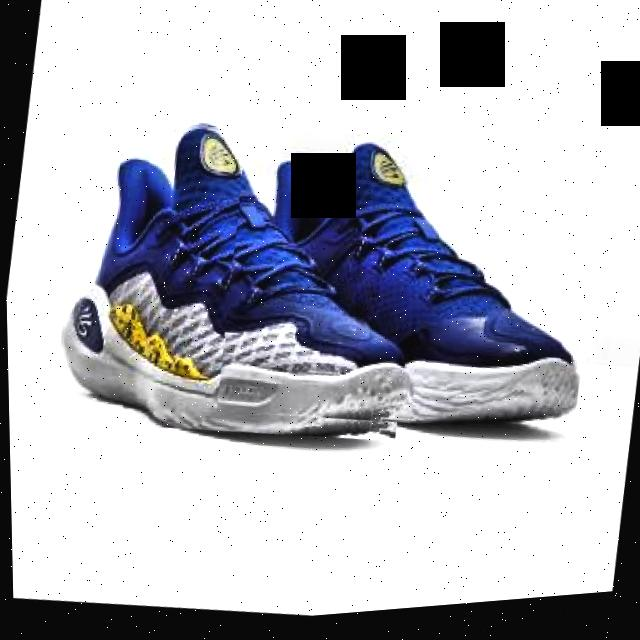shoe: (44, 94, 435, 470), (208, 114, 610, 465)
